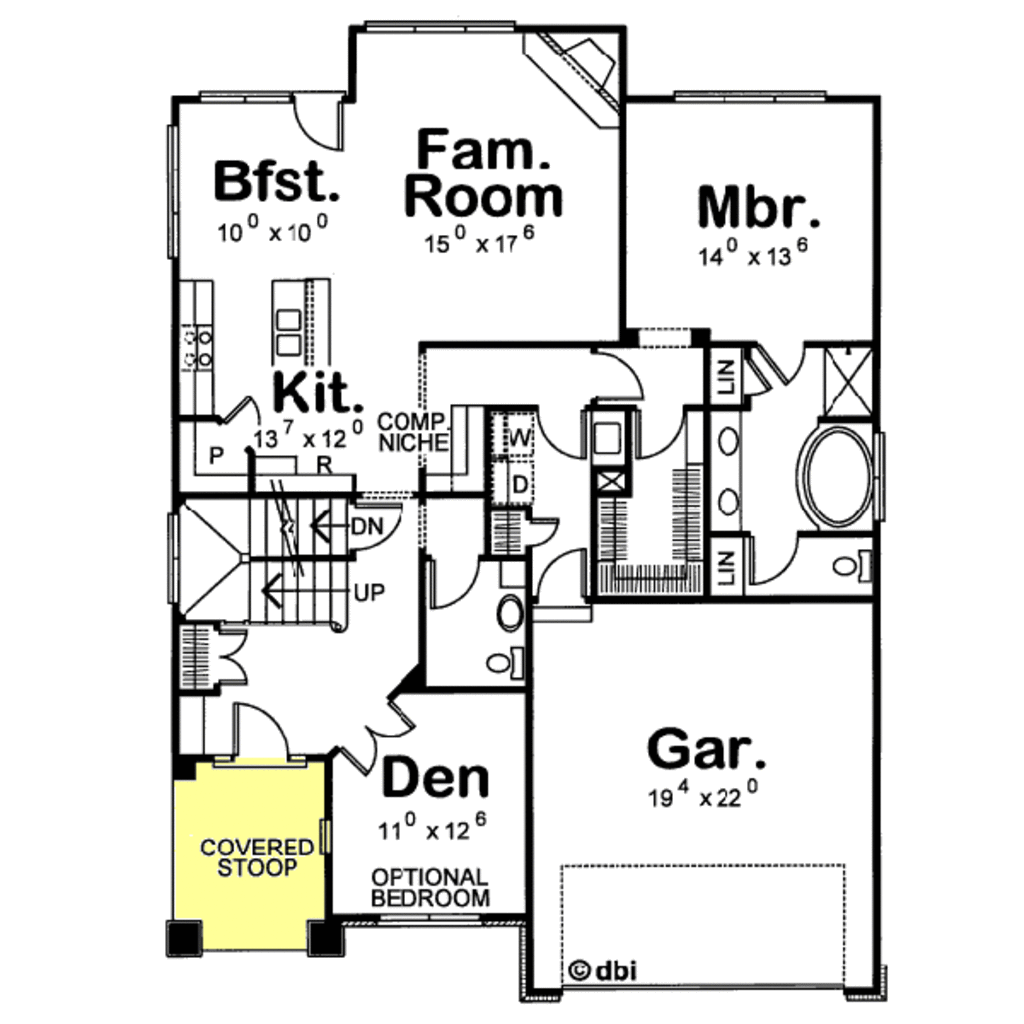door: (335, 691, 416, 786), (218, 699, 292, 768), (532, 541, 592, 624), (294, 94, 359, 164), (348, 497, 405, 561), (430, 552, 481, 614), (208, 392, 270, 441), (755, 532, 803, 594), (593, 347, 643, 402), (213, 624, 256, 686), (757, 337, 809, 385), (637, 411, 686, 459), (735, 361, 776, 407), (527, 512, 558, 545)
kitchen_bar: (265, 271, 354, 406)
large_sink: (828, 546, 872, 590), (484, 645, 532, 680)
small_sink: (707, 407, 744, 532), (495, 594, 527, 634)
stairs: (185, 503, 349, 633)
twin_sink: (272, 305, 313, 358)
window: (156, 119, 190, 261), (357, 15, 519, 40), (672, 84, 827, 107), (165, 508, 186, 613), (871, 424, 890, 526), (201, 90, 297, 106)
